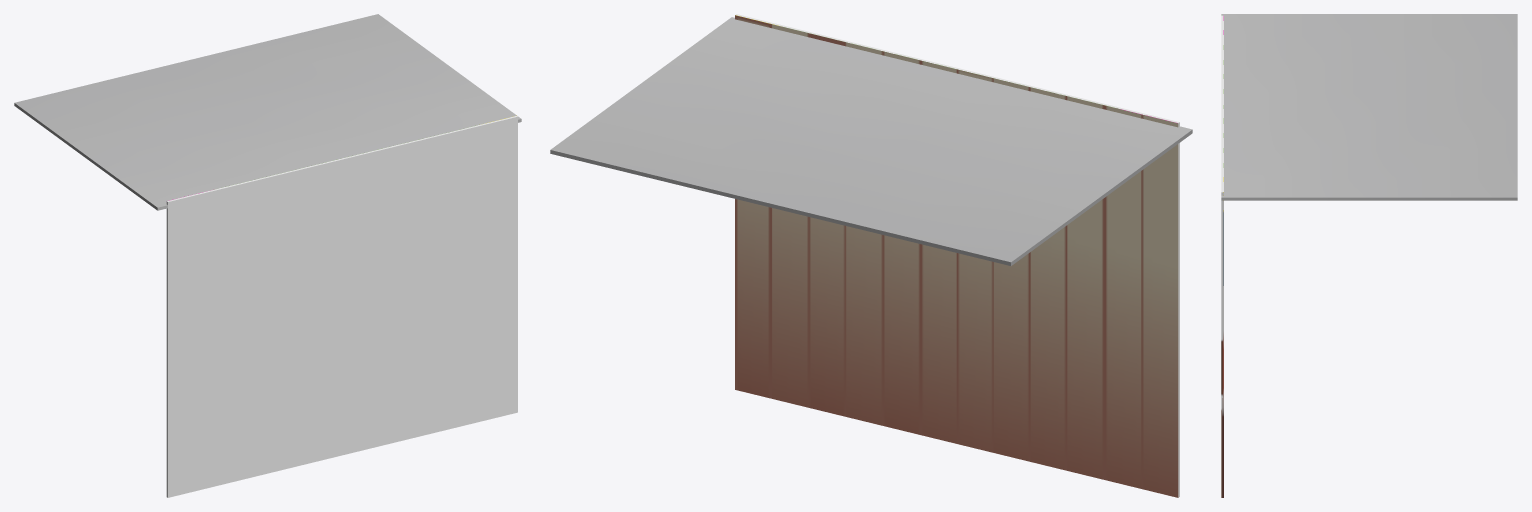
The model's file is wall_and_celeing.fbx.
The picture shows the model from 3 angles, left to right: view 1: azimuth 30°, elevation 25°; view 2: azimuth 150°, elevation 25°; view 3: azimuth 270°, elevation 25°; orthographic projection. The views are drawn at different scales.
Parts seen in each view (by area): view 1: Cube.004, Cube.008; view 2: Cube.004, Cube.008; view 3: Cube.008, Cube.004.
Part boxes in pixels (<box>): Cube.004: <box>166,115,517,497</box>; Cube.008: <box>14,14,521,210</box>; Cube.004: <box>735,14,1179,497</box>; Cube.008: <box>550,17,1192,265</box>; Cube.008: <box>1221,14,1517,200</box>; Cube.004: <box>1221,15,1223,497</box>.
Bounding box in the file's own units: 615 × 478 × 420.
Materials: 2 (1 with a texture image).
